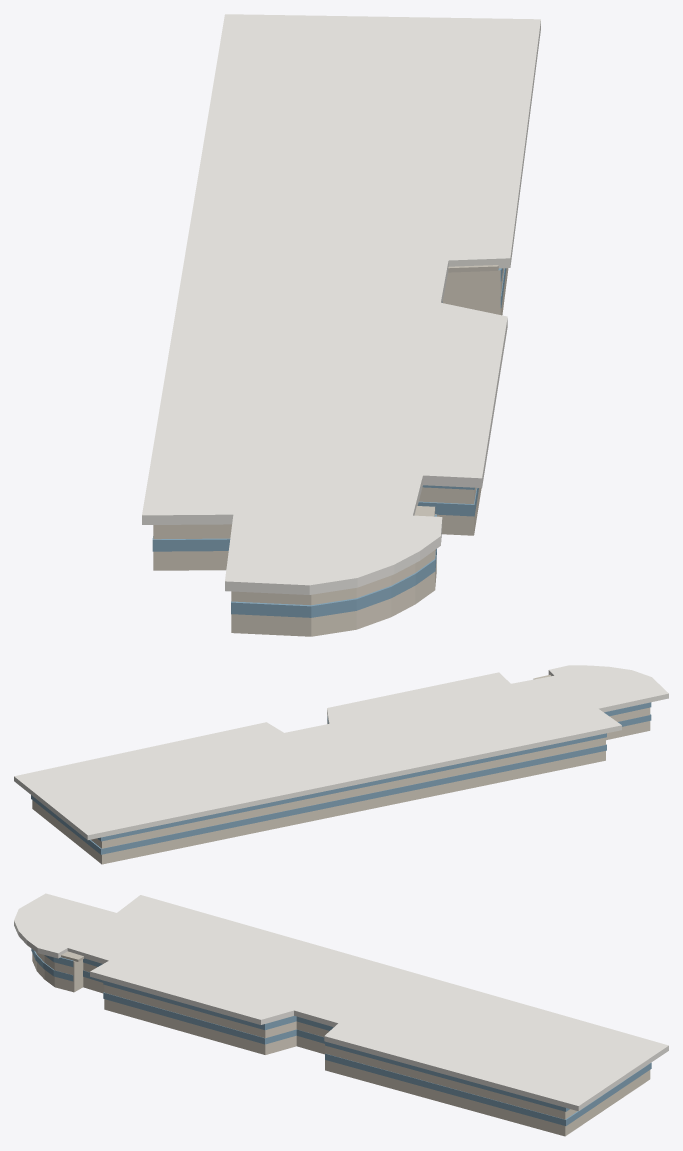
File: airport.glb
The picture shows the model from 3 angles, top to bottom: view 1: azimuth 30°, elevation 25°; view 2: azimuth 150°, elevation 25°; view 3: azimuth 270°, elevation 25°; orthographic projection. The views are drawn at different scales.
Parts seen in each view (by area): view 1: part; view 2: part; view 3: part.
Boxes of the visible parts, x1,y1,x2,y2 form: part: (142,14,540,636); part: (14,665,668,864); part: (14,893,668,1136).
Bounding box in the file's own units: 191 × 15.39 × 249.
